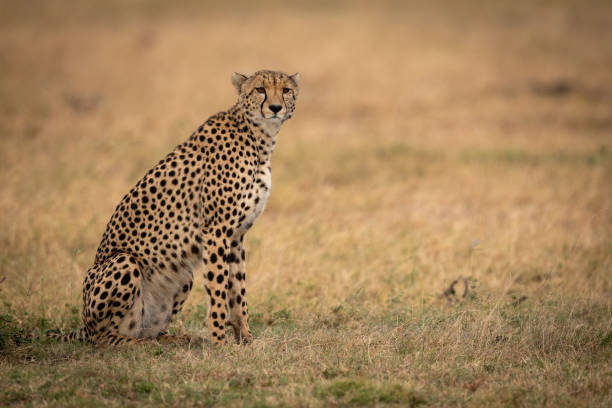cheetah: (225, 59, 305, 130)
